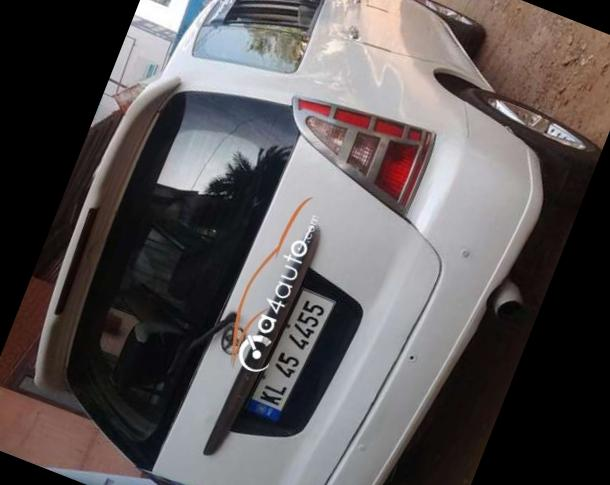plate: (231, 262, 363, 447)
